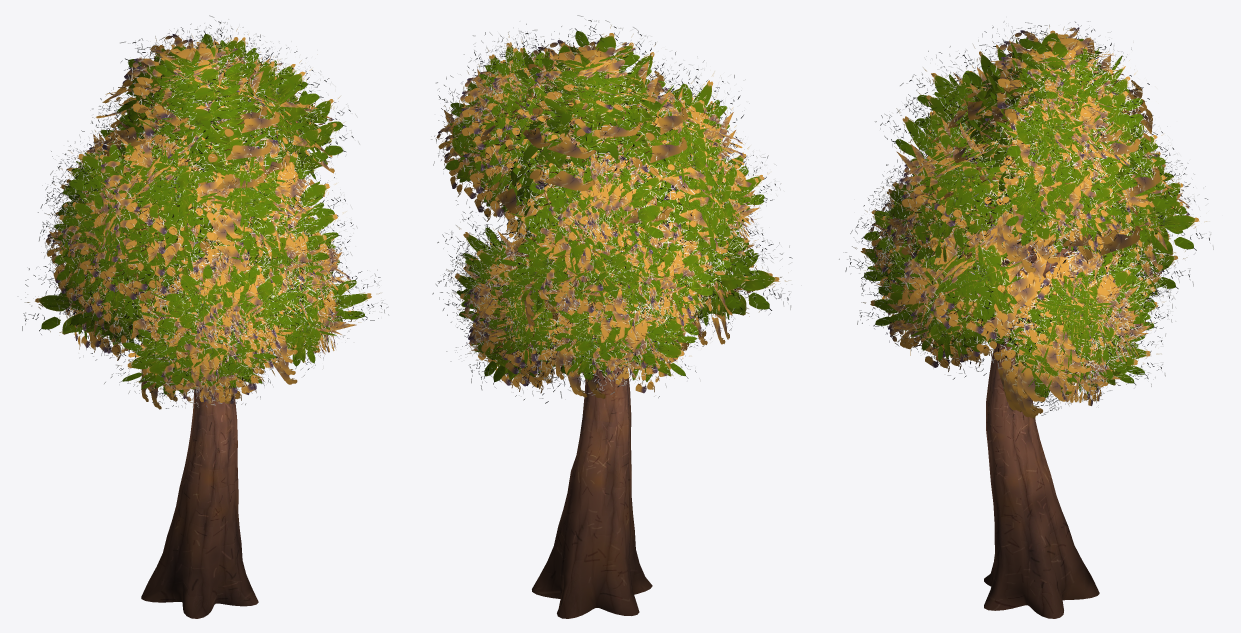
The model's file is nat_CommonTree_1.glb.
3 renders of one model, left to right at view 1: azimuth 30°, elevation 25°; view 2: azimuth 150°, elevation 25°; view 3: azimuth 270°, elevation 25°, orthographic. The views are drawn at different scales.
Visible parts, largest first — view 1: CommonTree_1; view 2: CommonTree_1; view 3: CommonTree_1.
Boxes of the visible parts, x1,y1,x2,y2 form: CommonTree_1: (17, 15, 389, 618); CommonTree_1: (431, 15, 801, 618); CommonTree_1: (839, 21, 1213, 618).
Size of the model in its own units: 4.31 by 7.26 by 4.58.
Materials: 2 (2 with a texture image).
